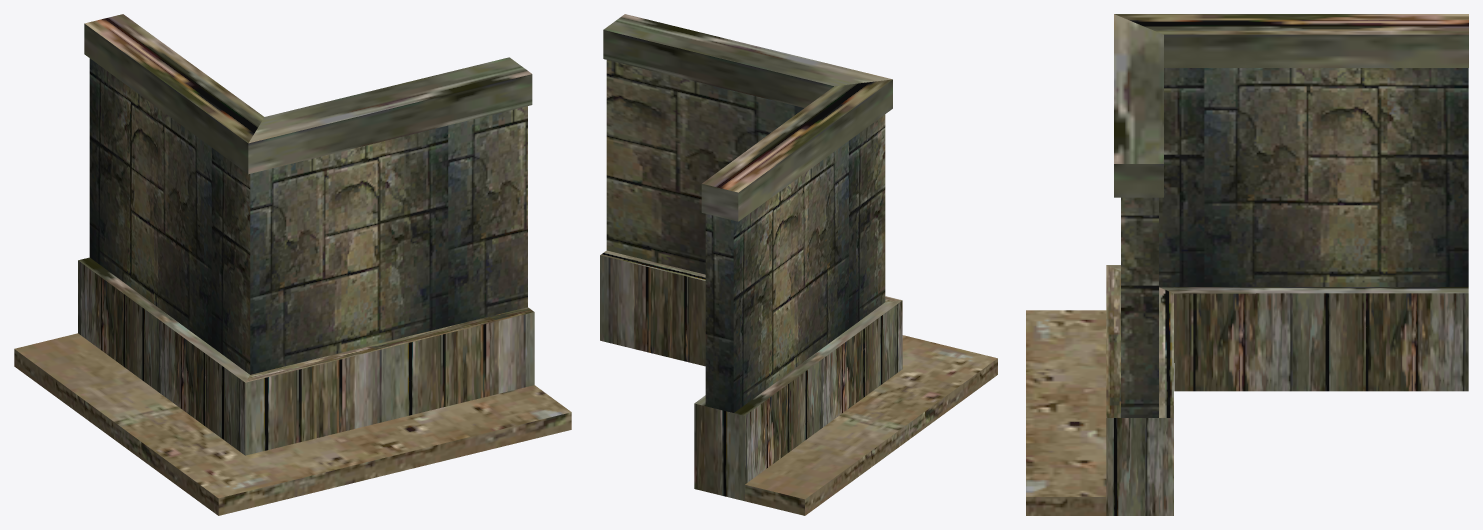
3 renders of one model, left to right at view 1: azimuth 30°, elevation 25°; view 2: azimuth 150°, elevation 25°; view 3: azimuth 270°, elevation 25°, orthographic. The views are drawn at different scales.
Visible parts, largest first — view 1: HouseWall04; view 2: HouseWall04; view 3: HouseWall04.
Boxes of the visible parts, box(x1,y1,x2,y2) form: HouseWall04: box(14, 14, 571, 515); HouseWall04: box(600, 14, 997, 515); HouseWall04: box(1026, 14, 1468, 515).
Size of the model in its own units: 301 by 264 by 301.
